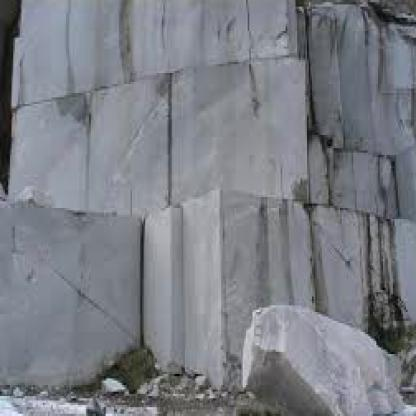Metamorphic_Marble: (2, 192, 147, 392), (172, 48, 310, 204), (234, 301, 411, 414), (305, 0, 416, 157), (168, 199, 310, 301), (86, 62, 175, 206), (312, 206, 378, 325)
